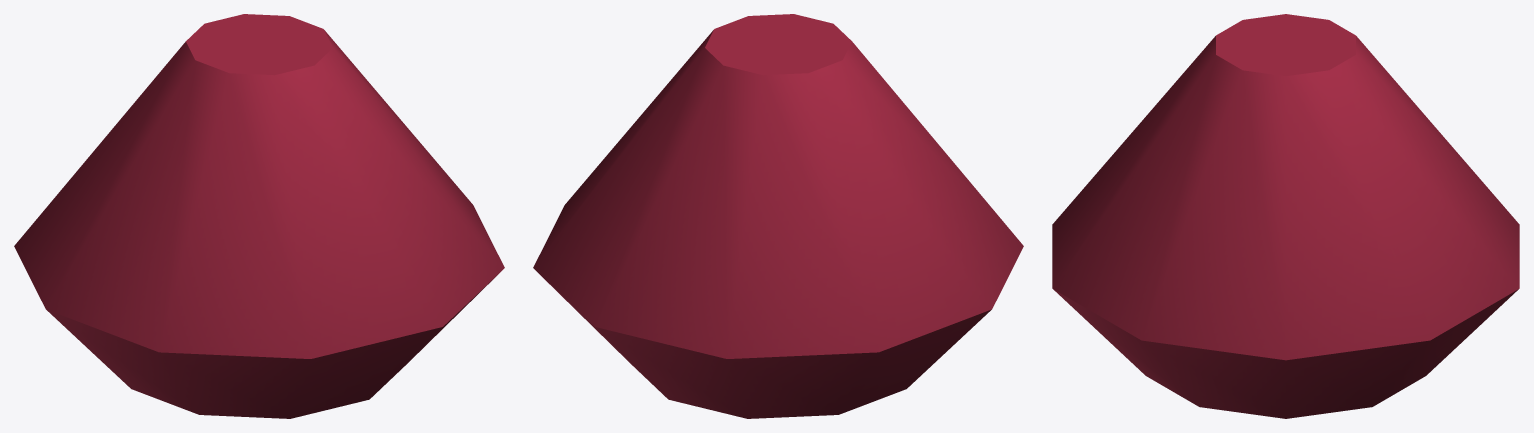
Rendered from yumako.glb.
The picture shows the model from 3 angles, left to right: view 1: azimuth 30°, elevation 25°; view 2: azimuth 150°, elevation 25°; view 3: azimuth 270°, elevation 25°; orthographic projection.
Parts seen in each view (by area): view 1: yumako; view 2: yumako; view 3: yumako.
Part boxes in pixels (x1=…): yumako: x1=14, y1=14, x2=504, y2=418; yumako: x1=533, y1=14, x2=1023, y2=418; yumako: x1=1052, y1=14, x2=1519, y2=418.
Bounding box in the file's own units: 0.2 × 0.14 × 0.1902.
